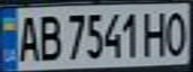1: (121, 9, 142, 58)
4: (103, 9, 124, 60)
5: (84, 9, 106, 60)
7: (63, 10, 84, 61)
A: (12, 11, 42, 63)
B: (33, 11, 63, 62)
H: (142, 7, 172, 57)
O: (163, 7, 190, 56)
